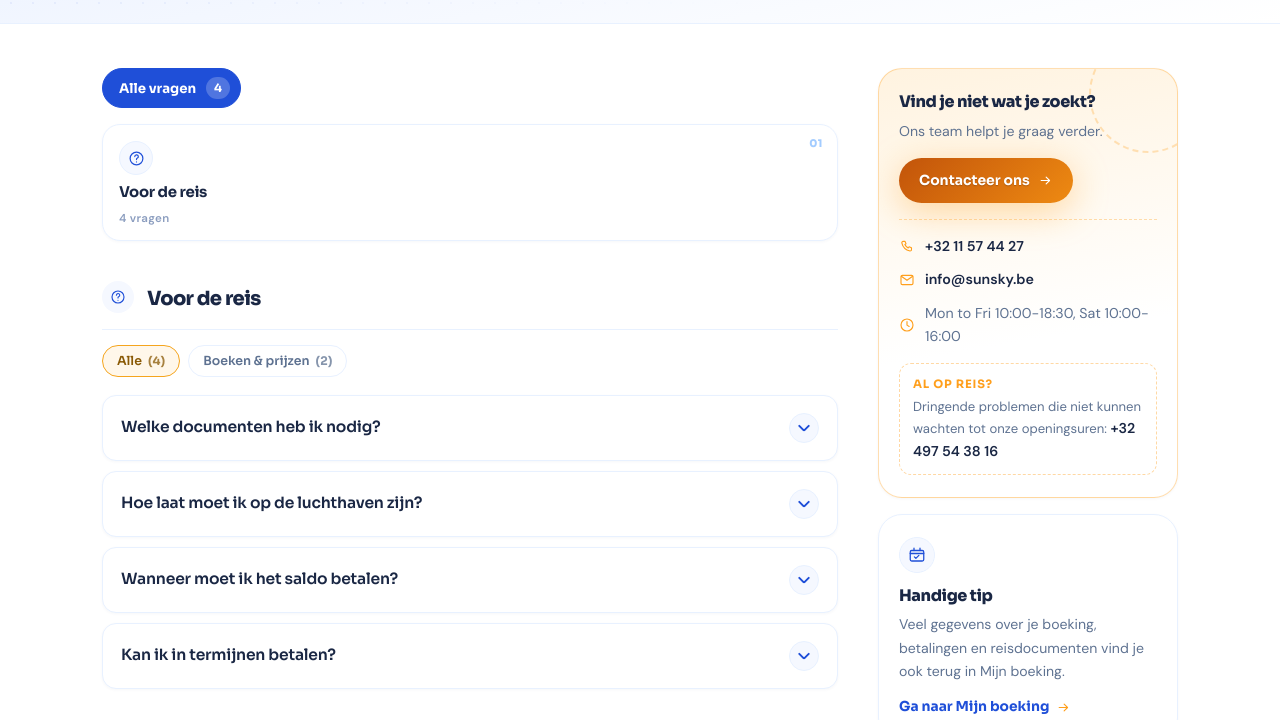
Test: subcategories › narrows the card to the subcategory, and back again
(page scrolled)
Click the button "Boeken & prijzen (2)" at (268, 361), box top-left (188, 345), bottom-right (347, 377)
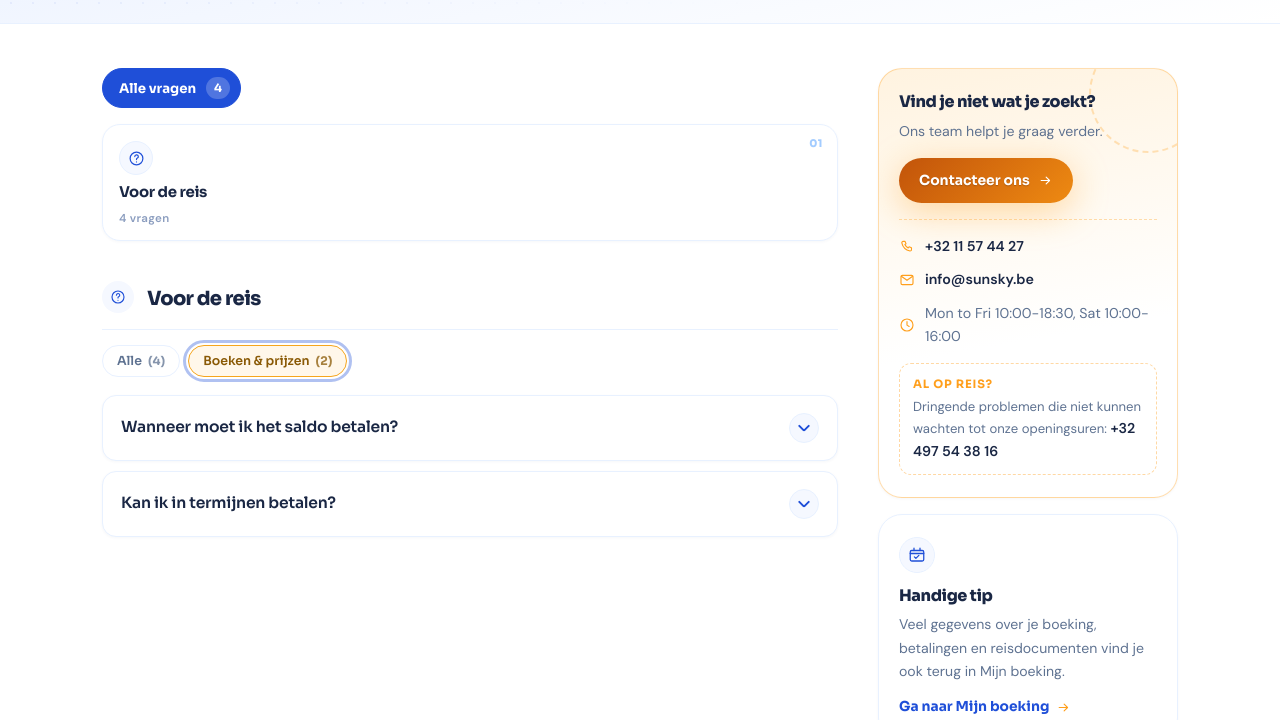
Check: the button "Wanneer moet ik het saldo betalen?" is shown, box top-left (103, 396), bottom-right (837, 460)
Check: the button "Welke documenten heb ik nodig?" is gone
# Clicking the open filter again clears it, so the full card is one click away.
Click the button "Boeken & prijzen (2)" at (268, 361), box top-left (188, 345), bottom-right (347, 377)
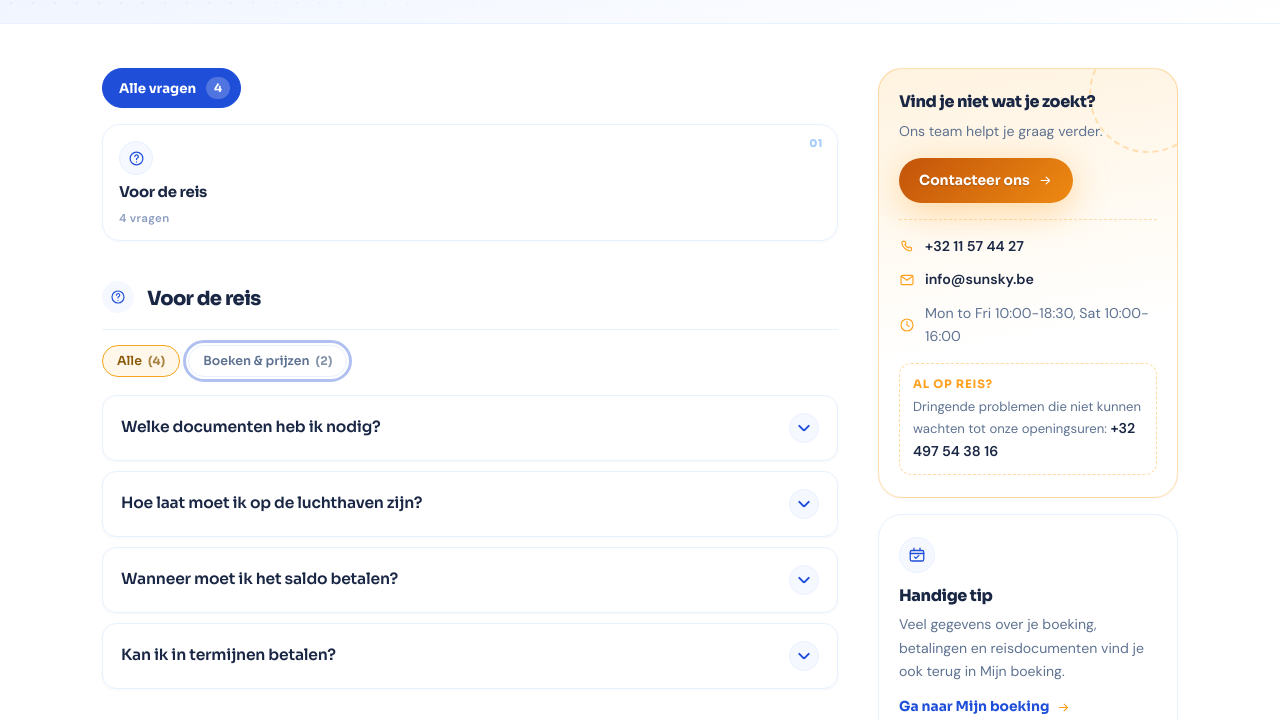
Check: the button "Welke documenten heb ik nodig?" is shown, box top-left (103, 396), bottom-right (837, 460)
